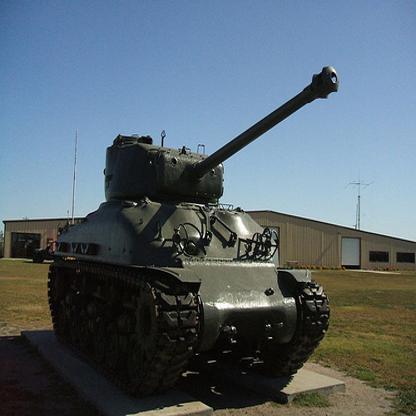Tank: (38, 65, 352, 391)
